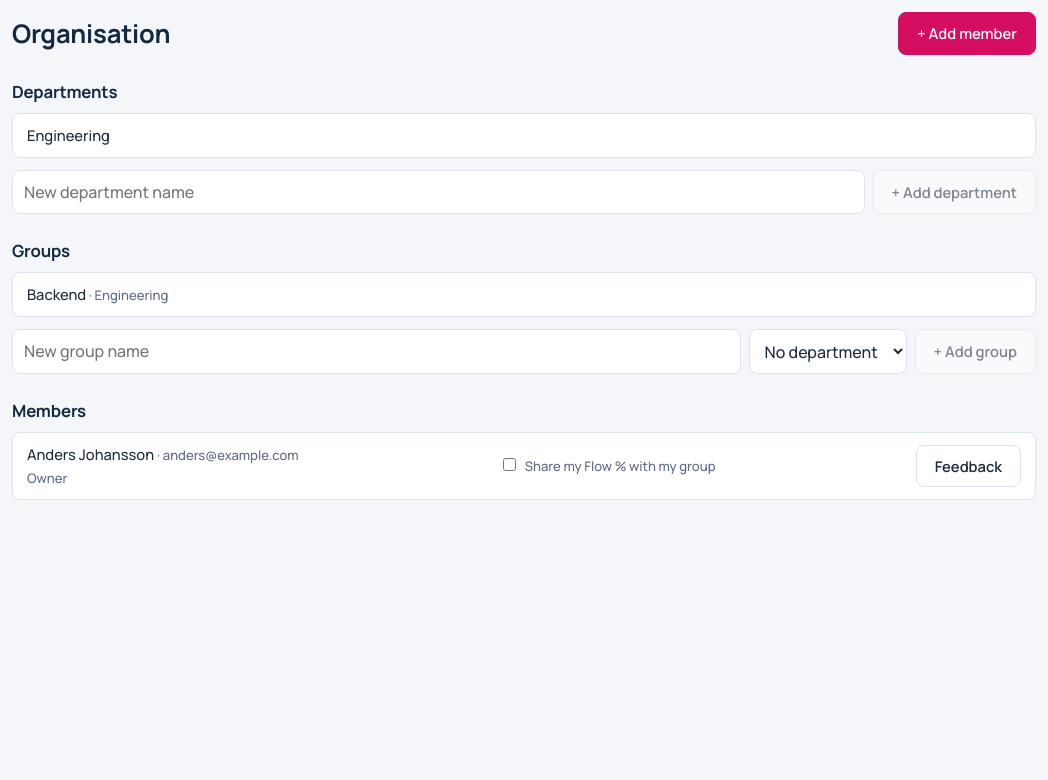
Test: OrganisationPage › with an Organisation account › shows an error message if toggling sharing fails
This screenshot has width=1048, height=780.
Expected: the text "Share my Flow % with my group" is shown, left=499, top=456, right=716, bottom=476
Step 1. Click the checkbox labelled "Share my Flow % with my group" → (509, 464), box left=503, top=458, right=516, bottom=471
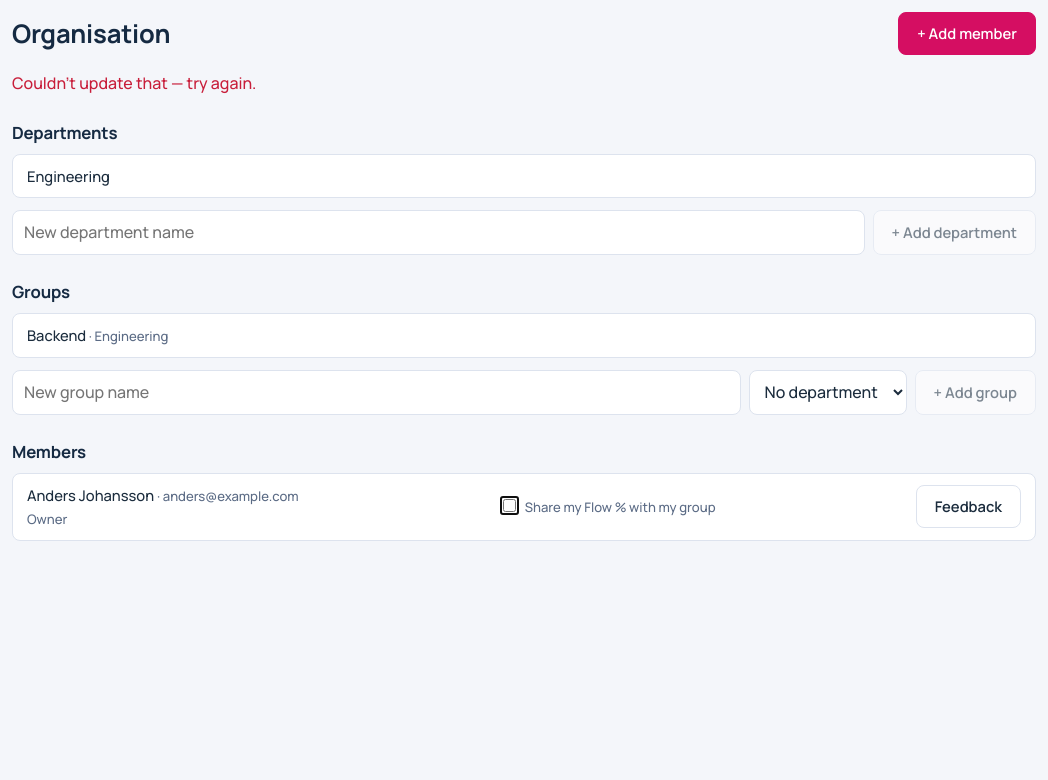
Result: the text "Couldn't update that — try again." is shown at left=12, top=72, right=256, bottom=94
